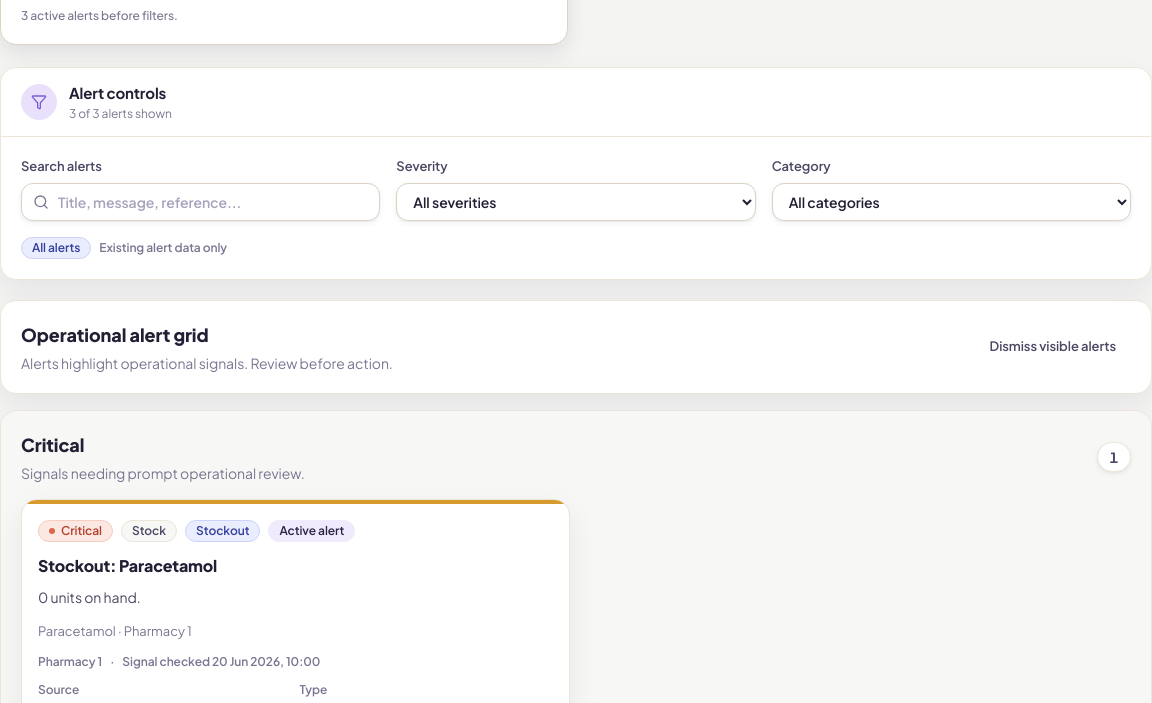
AlertsScreen › dismisses visible alerts with existing clear semantics
This screenshot has width=1152, height=703.
(page scrolled)
Expected: the heading "Stockout: Paracetamol" is shown, x1=38 y1=555 x2=217 y2=576
Click the button "Dismiss visible alerts".
click(1053, 347)  # box x1=975 y1=329 x2=1131 y2=365
(page scrolled)
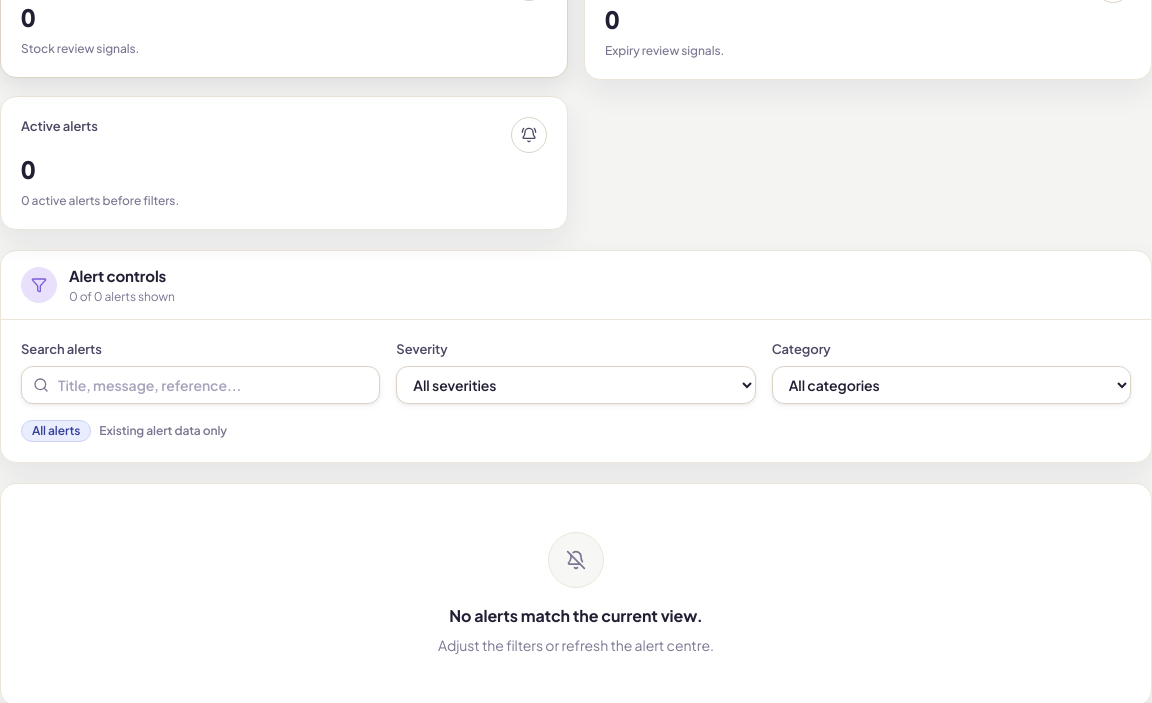
Expected: the heading "No alerts match the current view." is shown, x1=449 y1=604 x2=703 y2=628
